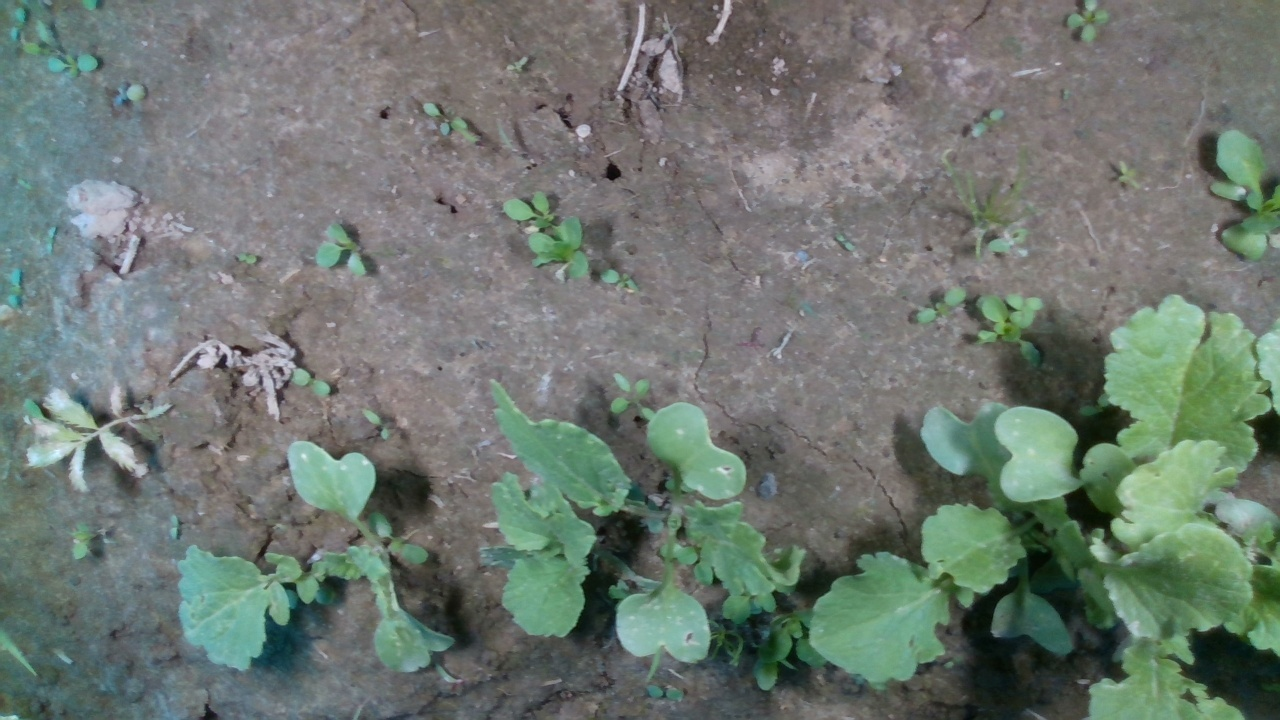weed: (314, 222, 367, 276), (609, 371, 654, 419), (915, 284, 967, 324), (419, 100, 468, 139), (46, 51, 98, 80), (288, 367, 334, 396), (968, 106, 1007, 137), (358, 406, 391, 440), (599, 269, 641, 294), (1117, 156, 1141, 191), (232, 252, 258, 266)
